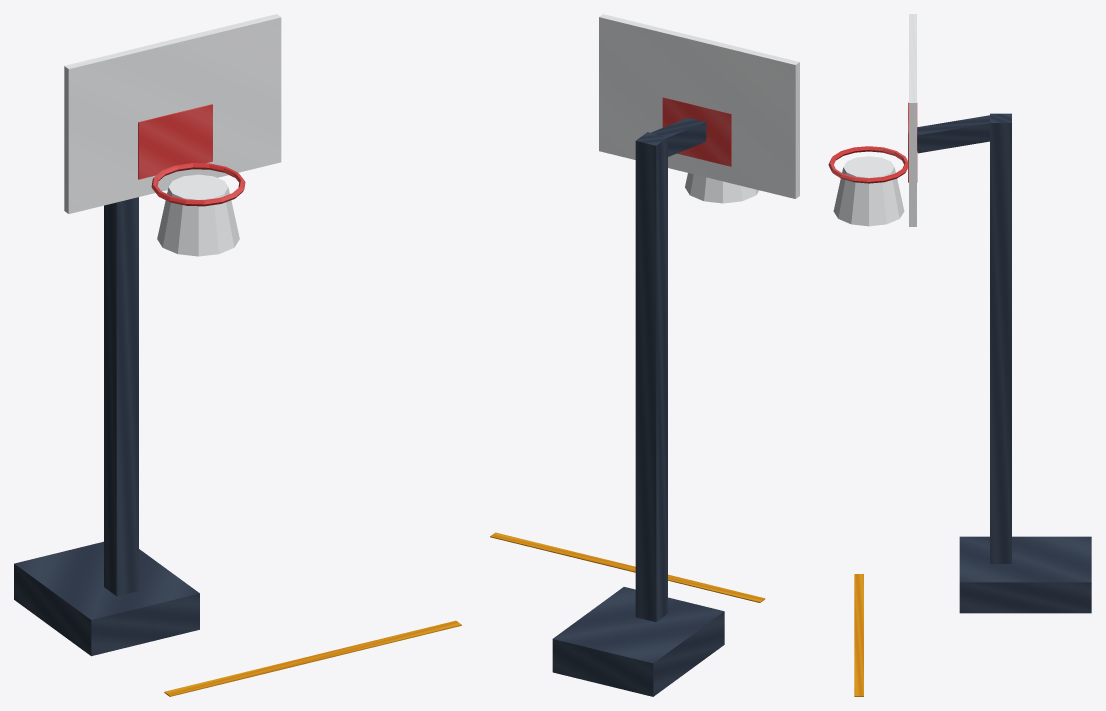
File: court-hoop-stanchion.glb
3 renders of one model, left to right at view 1: azimuth 30°, elevation 25°; view 2: azimuth 150°, elevation 25°; view 3: azimuth 270°, elevation 25°, orthographic. The views are drawn at different scales.
Parts seen in each view (by area): view 1: TS_StageProp_court-hoop-stanchion; view 2: TS_StageProp_court-hoop-stanchion; view 3: TS_StageProp_court-hoop-stanchion.
Boxes of the visible parts, x1,y1,x2,y2 form: TS_StageProp_court-hoop-stanchion: (14, 14, 461, 696); TS_StageProp_court-hoop-stanchion: (490, 14, 799, 696); TS_StageProp_court-hoop-stanchion: (828, 14, 1091, 696).
Size of the model in its own units: 1.46 by 2.4 by 1.08.
Materials: 1 (1 with a texture image).
